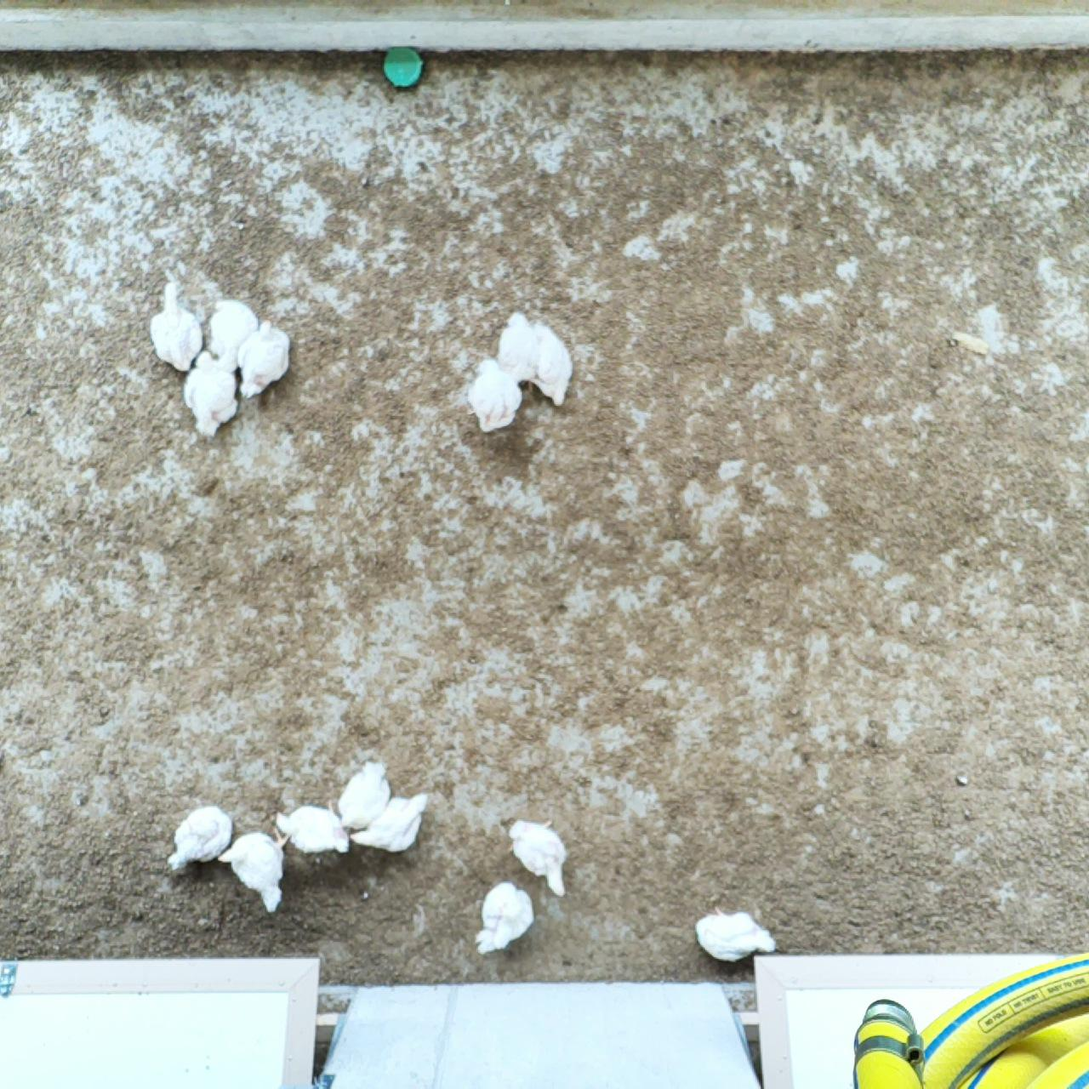chicken: (218, 827, 292, 917), (499, 815, 570, 898), (348, 790, 434, 855), (691, 903, 780, 965), (182, 350, 243, 438), (148, 276, 201, 372), (273, 796, 352, 860), (235, 318, 294, 403), (475, 880, 535, 959), (169, 802, 232, 874), (469, 355, 525, 431), (206, 293, 257, 375), (528, 322, 574, 408), (338, 757, 391, 831), (501, 309, 540, 391)
